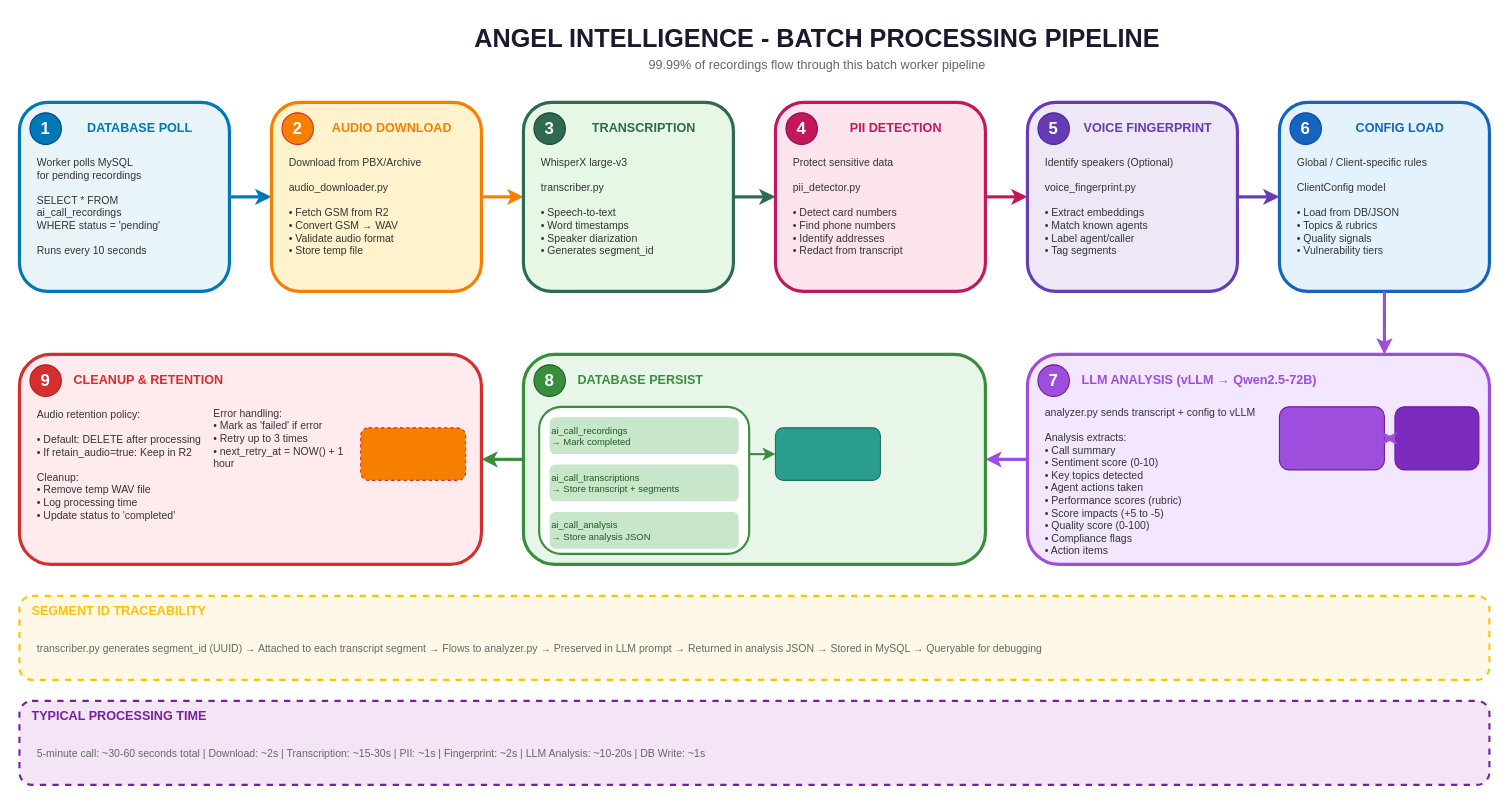
This 1509x803 diagram has some shape labels left out. Here are the shapes that lost their labels. From the top down, the centre of each, then its label:
[413,453]: R2 Storage (Optional Retain)
[827,453]: MySQL (External Server)
[1331,438]: vLLM :30800 Load Balanced 2x Pods
[1436,438]: Qwen2.5-72B AWQ Q4 ~40GB each
